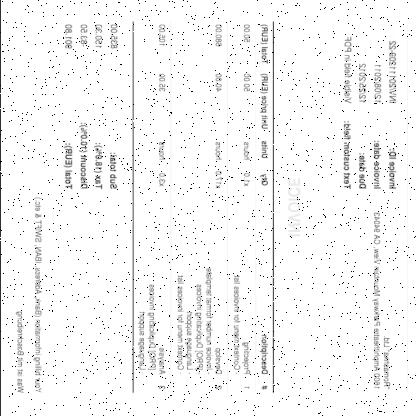Paragraph: (61, 20, 123, 192), (338, 34, 398, 192), (12, 194, 46, 396), (369, 210, 393, 392), (284, 176, 304, 240)
Table: (131, 20, 274, 394)
